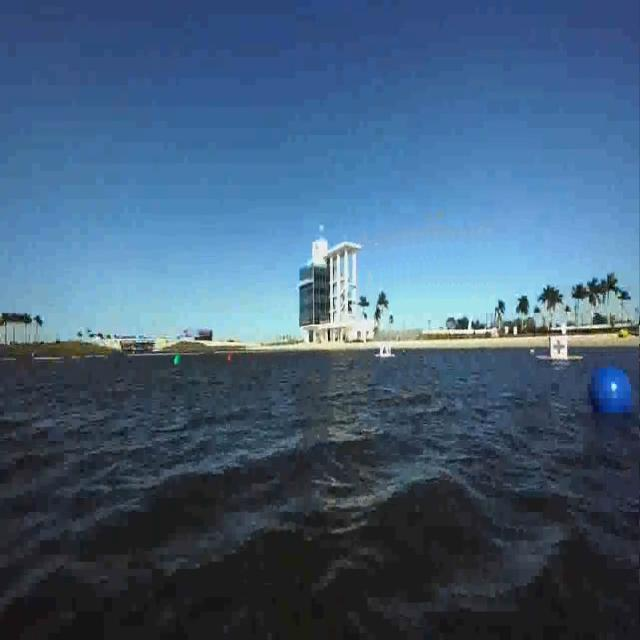blue-buoy: (589, 365, 634, 421)
green-buoy: (174, 354, 182, 365)
